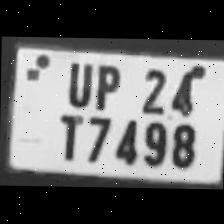2: (135, 62, 168, 111)
4: (166, 61, 202, 115), (110, 111, 140, 164)
7: (80, 110, 110, 161)
8: (166, 116, 196, 168)
9: (138, 114, 166, 165)
P: (88, 58, 123, 108)
T: (51, 106, 84, 160)
U: (60, 56, 93, 105)
